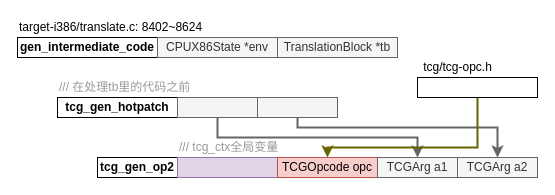
Image size: 555x195. Some labels were removed from this diagram. The centre of each missing label's shape, as x and y in pixels:
INDEX_op_hotpatch: point 477,87
TCGContext *ctx: point 227,167
uint32_t arg1: point 217,107
uint32_t arg2: point 297,107
